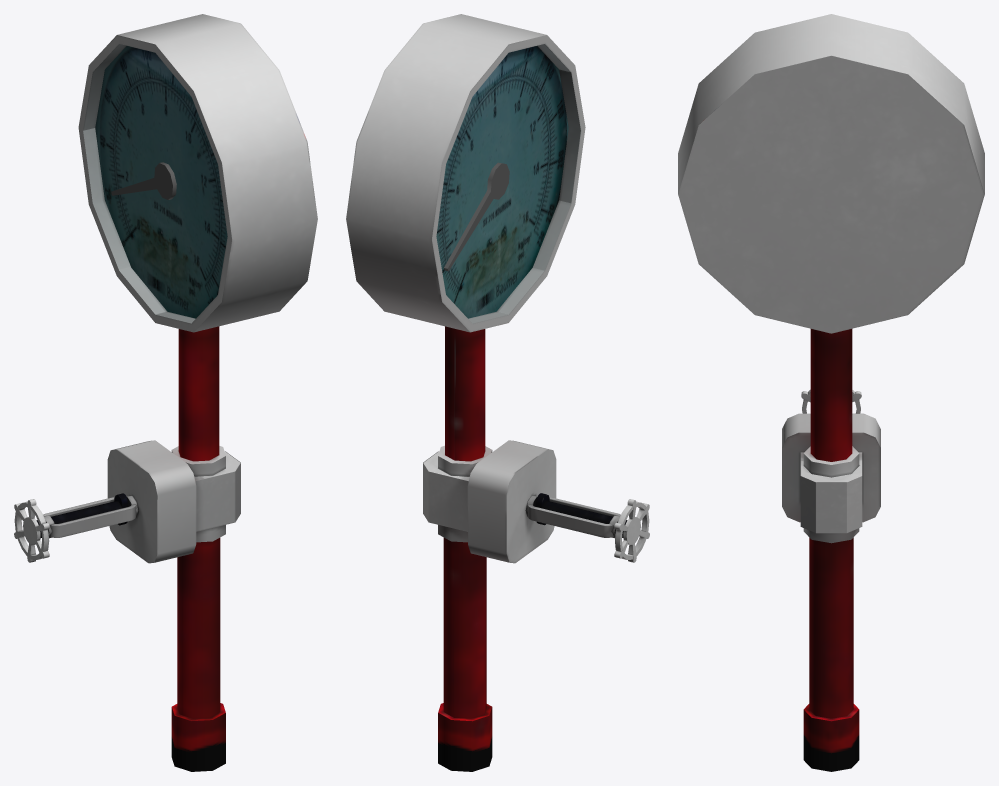
The model's file is Gauge1S1IN.fbx.
3 views of the same model, side by side, from view 1: azimuth 30°, elevation 25°; view 2: azimuth 150°, elevation 25°; view 3: azimuth 270°, elevation 25° (orthographic).
Parts seen in each view (by area): view 1: Body, Needle; view 2: Body, Needle; view 3: Body.
Boxes of the visible parts, left/top/right/bottom form: Body: left=14, top=14, right=317, bottom=771; Needle: left=111, top=162, right=176, bottom=199; Body: left=346, top=14, right=649, bottom=771; Needle: left=444, top=162, right=509, bottom=271; Body: left=678, top=14, right=984, bottom=771.
Bounding box in the file's own units: 14.49 × 47.47 × 18.2.
2 materials, 1 textured.
